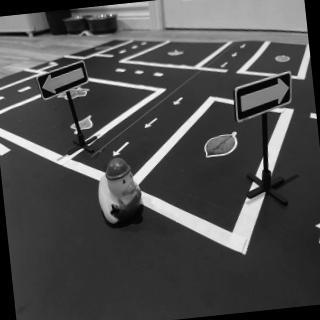duck_specialty: (94, 157, 148, 230)
road_oneway: (112, 139, 134, 160), (311, 212, 320, 253), (144, 117, 163, 132), (172, 95, 186, 110), (218, 61, 232, 70), (230, 50, 241, 60), (240, 43, 252, 50)
sign_oneway_left: (37, 60, 91, 101)
sign_oneway_right: (232, 72, 296, 123)
